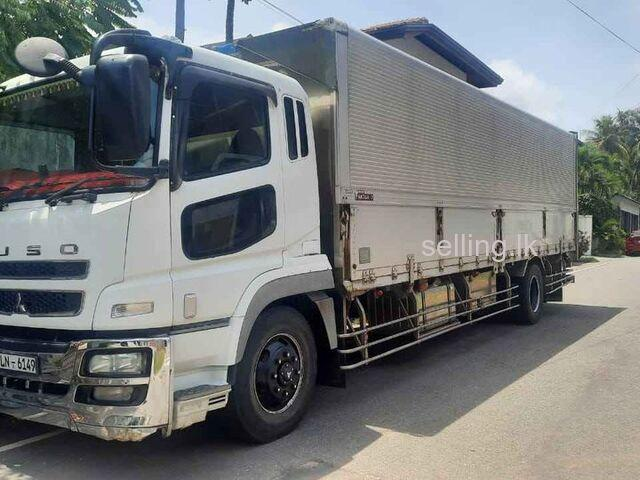truck: (1, 16, 577, 444)
